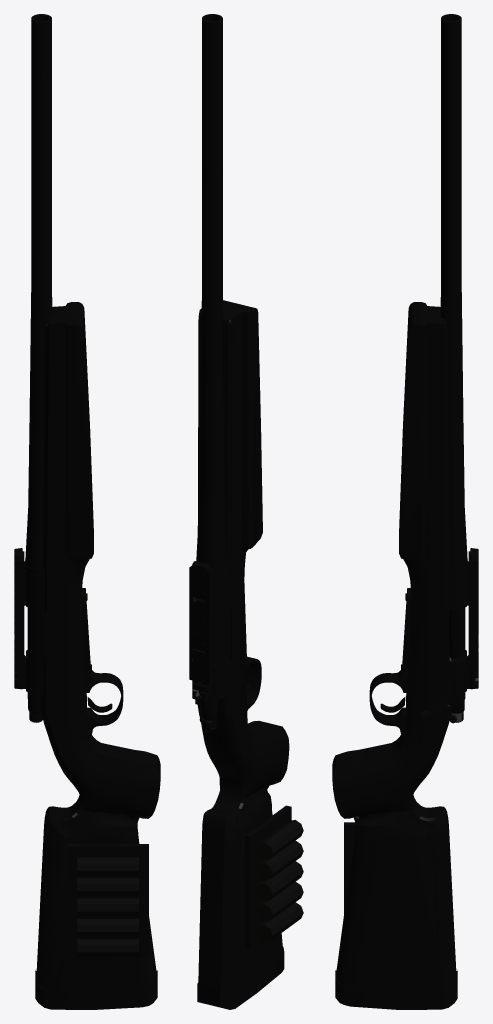
The model's file is Rem700__Mount_ScopeBase__ShellHolder_Butt.fbx.
The picture shows the model from 3 angles, left to right: view 1: azimuth 90°, elevation 25°; view 2: azimuth 150°, elevation 25°; view 3: azimuth 270°, elevation 25°; orthographic projection.
Visible parts, largest first — view 1: asset_Rem700.001; view 2: asset_Rem700.001; view 3: asset_Rem700.001.
Part boxes in pixels (<box>): asset_Rem700.001: <box>14,14,160,1009</box>; asset_Rem700.001: <box>189,14,303,1009</box>; asset_Rem700.001: <box>332,14,478,1009</box>.
Size of the model in its own units: 0.0494 by 0.636 by 0.0857.
